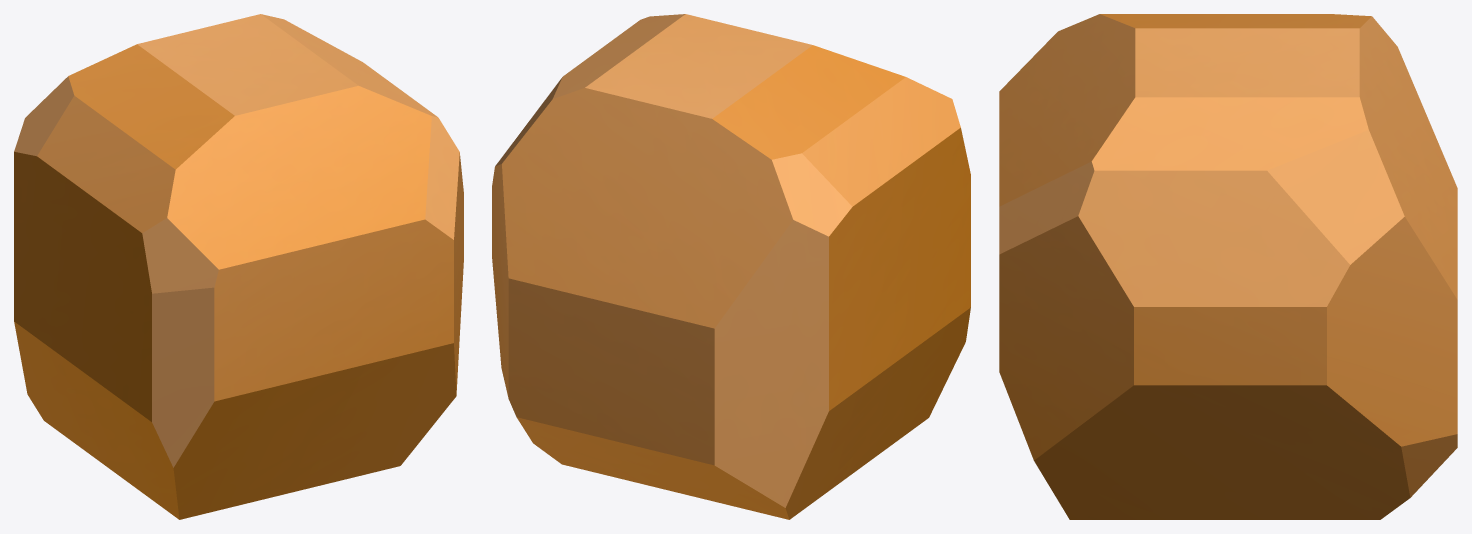
Rendered from Ore_Piece_02.fbx.
3 views of the same model, side by side, from view 1: azimuth 30°, elevation 25°; view 2: azimuth 150°, elevation 25°; view 3: azimuth 270°, elevation 25° (orthographic). The views are drawn at different scales.
Visible parts, largest first — view 1: Ore_Piece_02; view 2: Ore_Piece_02; view 3: Ore_Piece_02.
Boxes of the visible parts, x1,y1,x2,y2 form: Ore_Piece_02: (14,14,463,519); Ore_Piece_02: (492,14,970,519); Ore_Piece_02: (999,14,1457,519).
Size of the model in its own units: 0.5288 by 0.5288 by 0.5288.
